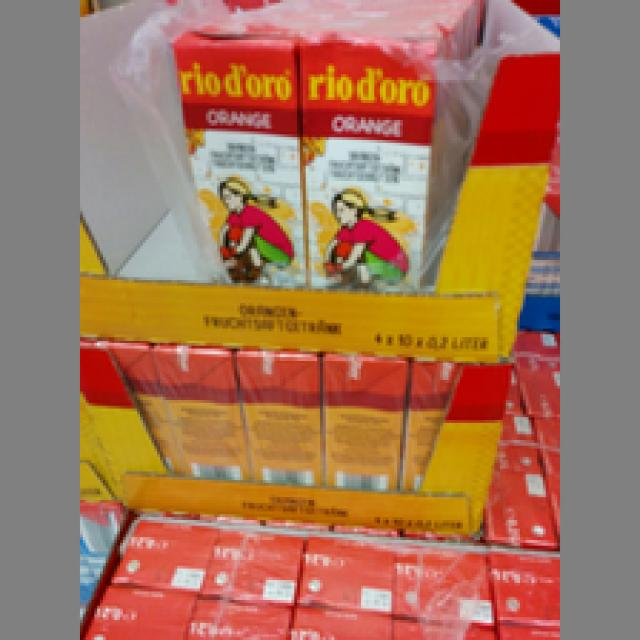groceries: (297, 26, 440, 286), (169, 20, 300, 283)
